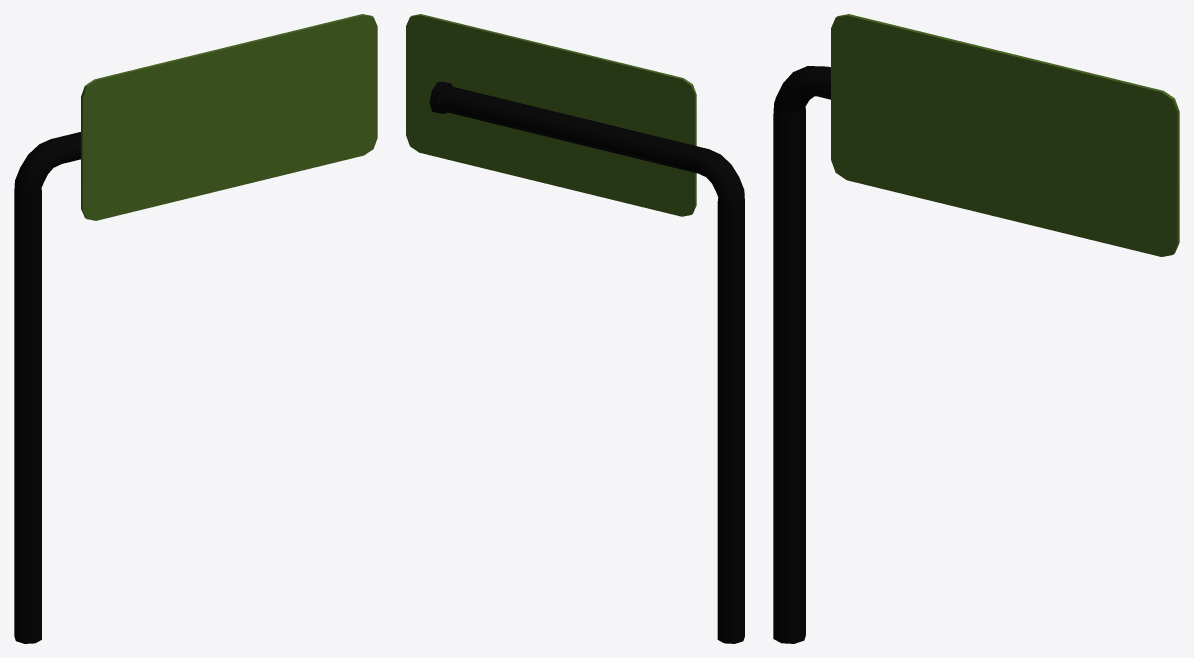
Rendered from MOD_OverhangSign.fbx.
The picture shows the model from 3 angles, left to right: view 1: azimuth 30°, elevation 25°; view 2: azimuth 150°, elevation 25°; view 3: azimuth 330°, elevation 25°; orthographic projection. The views are drawn at different scales.
Visible parts, largest first — view 1: SMOD_OverhangSign_LOD0; view 2: SMOD_OverhangSign_LOD0; view 3: SMOD_OverhangSign_LOD0.
Boxes of the visible parts, x1,y1,x2,y2 form: SMOD_OverhangSign_LOD0: [14, 14, 377, 643]; SMOD_OverhangSign_LOD0: [406, 14, 744, 643]; SMOD_OverhangSign_LOD0: [773, 14, 1179, 643].
Size of the model in its own units: 593 by 885 by 53.3.
